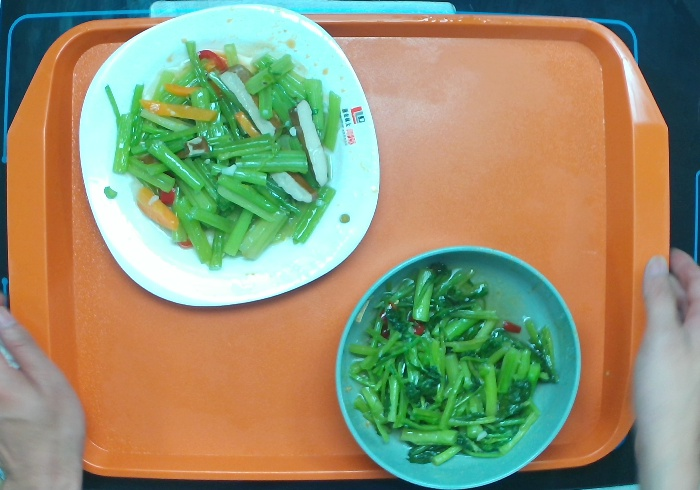ZNLD-Qing_Hua_Yuan_Wan: (329, 248, 580, 490)
ZNLD-Yuan_Jiao_Pan: (64, 1, 379, 313)
